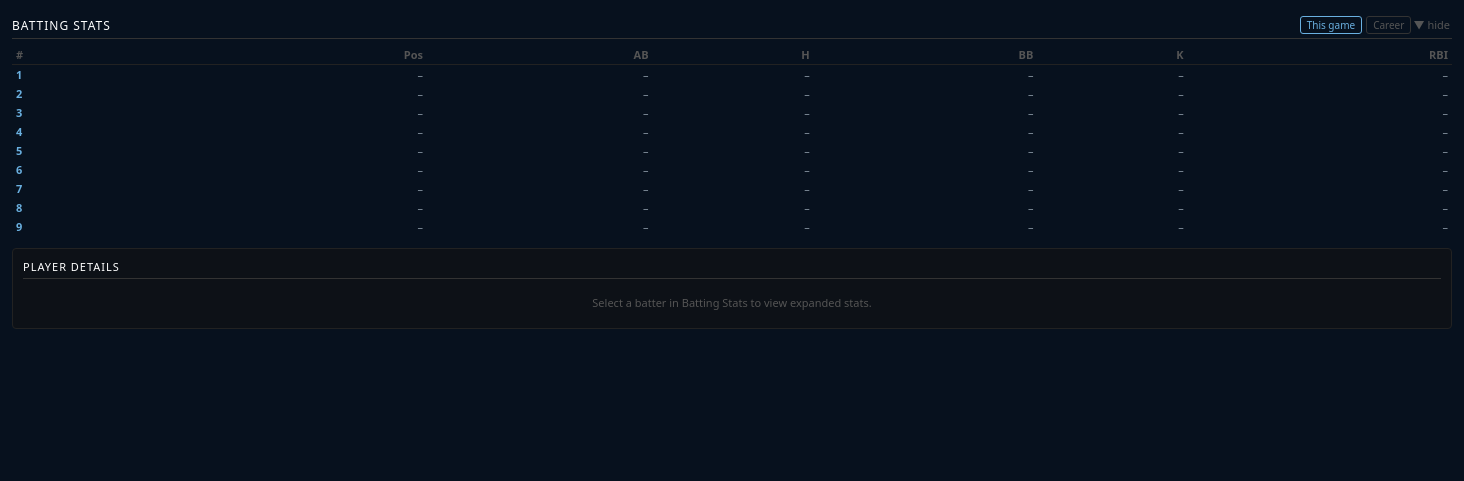
Scenario: PlayerStatsPanel › clears selection when clear button is clicked
The image size is (1464, 481).
What coordinates should you click on to do the following:
click the row with test id "batter-row-3"
I would click on:
 (19, 112)
Its box is [12,103,1452,122].
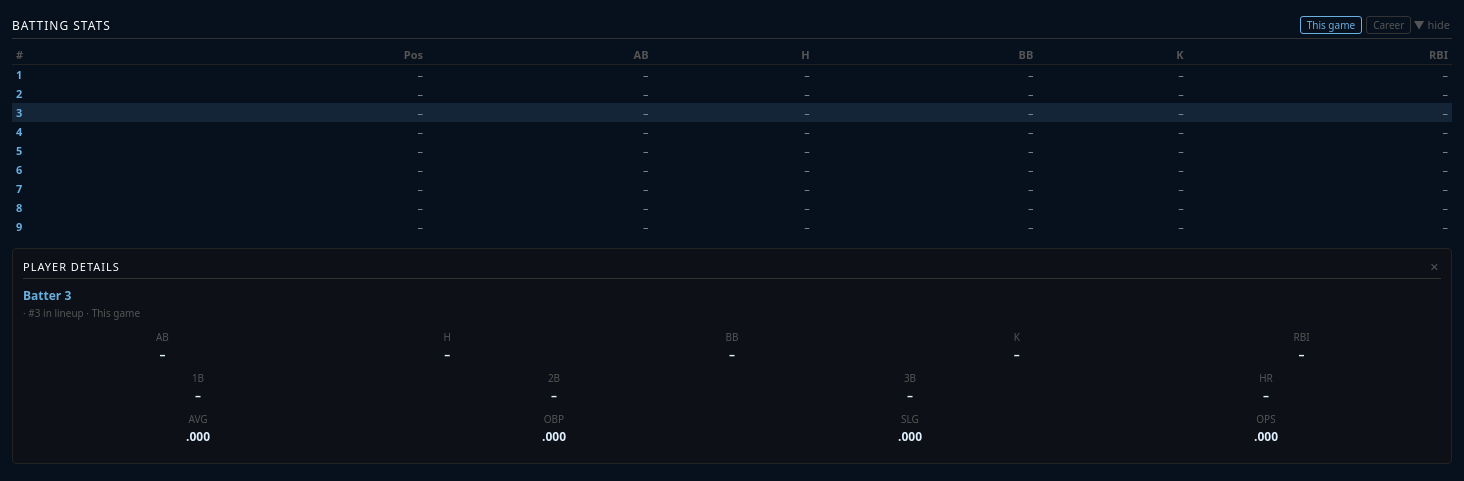
What coordinates should you click on to do the following:
click the button named "clear player selection"
I would click on:
 (1434, 266)
Its box is [1428,259,1441,274].
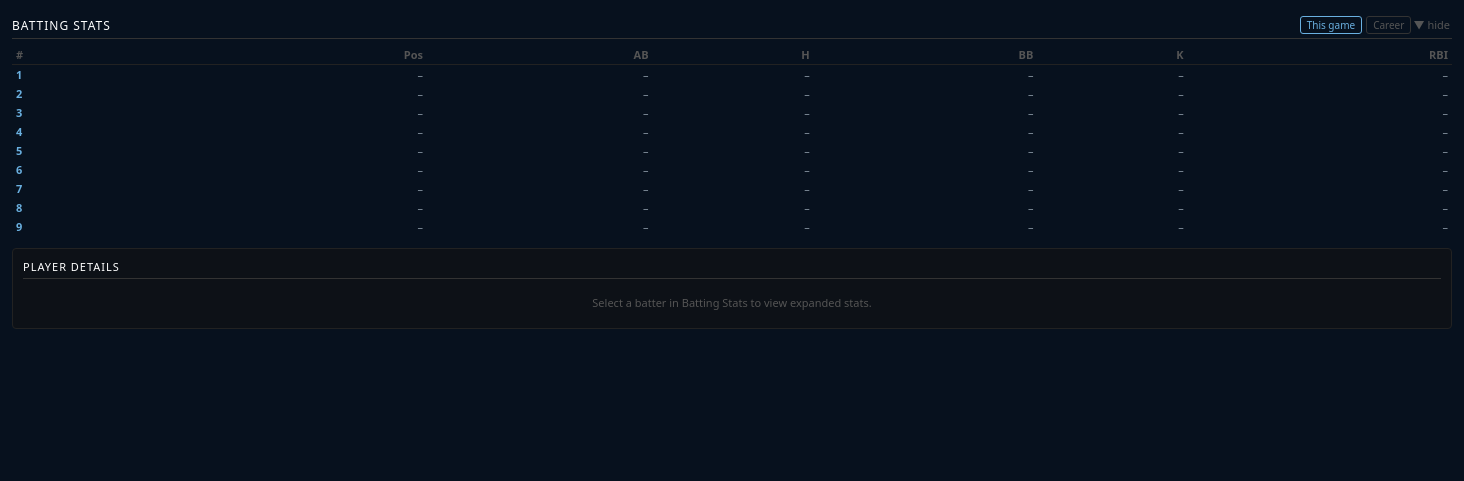
Result: the text "Select a batter in Batting Stats to view expanded stats." is shown at [592,295,872,310]
